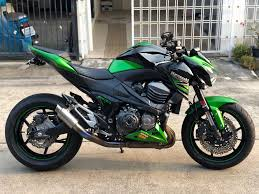motorcycle: (7, 48, 252, 170)
